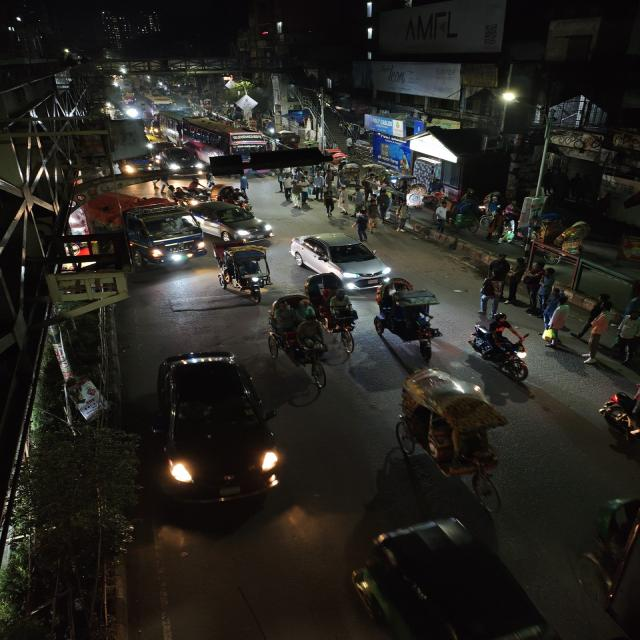bus: (172, 114, 269, 162), (144, 92, 174, 111)
car: (150, 348, 281, 521), (288, 231, 395, 288), (196, 201, 276, 242), (156, 148, 204, 176)
motorcycle: (469, 321, 531, 382), (595, 390, 640, 452)
pedestrian: (579, 300, 616, 368), (542, 297, 574, 347), (614, 312, 640, 364), (514, 264, 544, 308), (526, 266, 554, 310), (476, 276, 507, 315), (501, 262, 527, 304), (390, 195, 410, 233), (320, 186, 341, 217), (352, 210, 373, 241), (339, 184, 358, 216), (488, 253, 510, 280), (404, 183, 426, 210), (376, 188, 394, 220), (294, 180, 315, 206), (278, 175, 295, 201), (310, 173, 325, 199), (365, 186, 380, 208), (281, 185, 297, 205)
pickup_van: (119, 153, 156, 177)
rickshaw: (395, 366, 519, 504), (373, 276, 447, 359), (257, 292, 327, 374), (212, 242, 276, 304), (309, 281, 361, 351), (212, 184, 250, 208)
truck: (97, 192, 206, 270)
